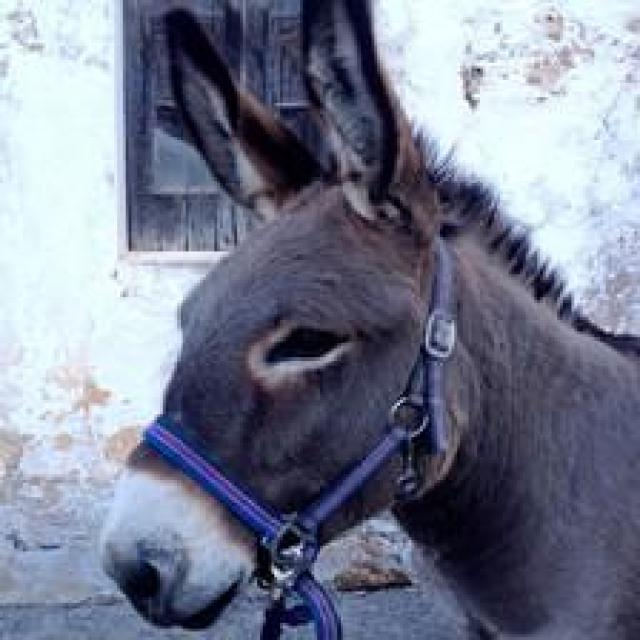Donkey: (97, 0, 637, 637)
